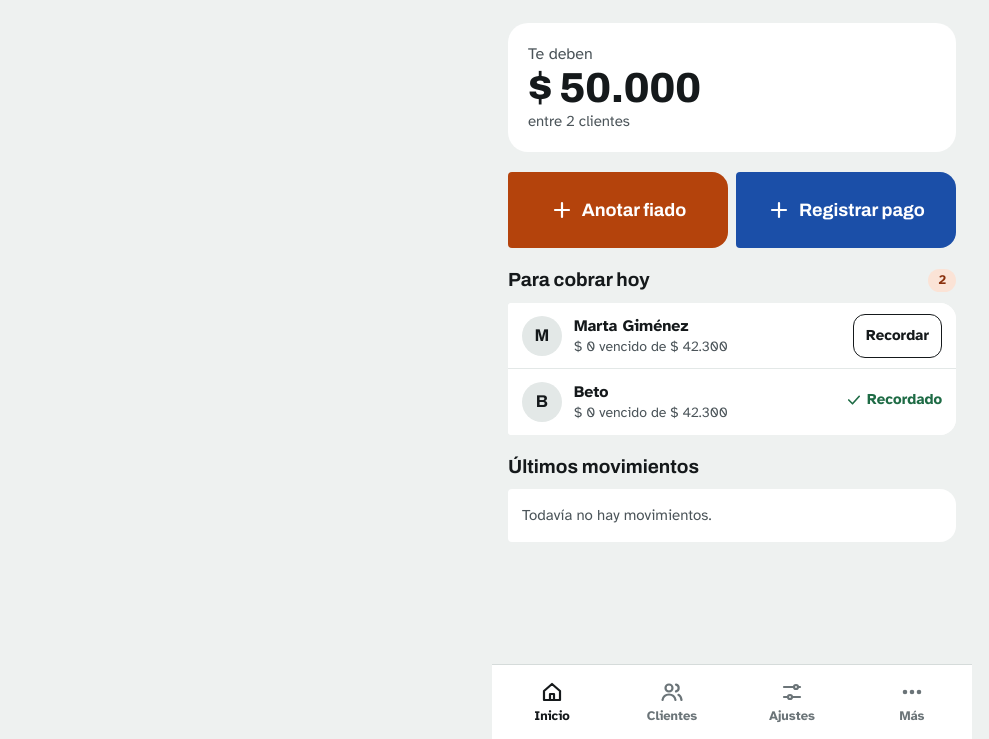
Para cobrar hoy › "Recordar" abre la pantalla y "Recordado" se muestra en verde
This screenshot has width=989, height=739.
Click the button "Recordar" at (897, 336), box [853, 314, 942, 358]
(page scrolled)
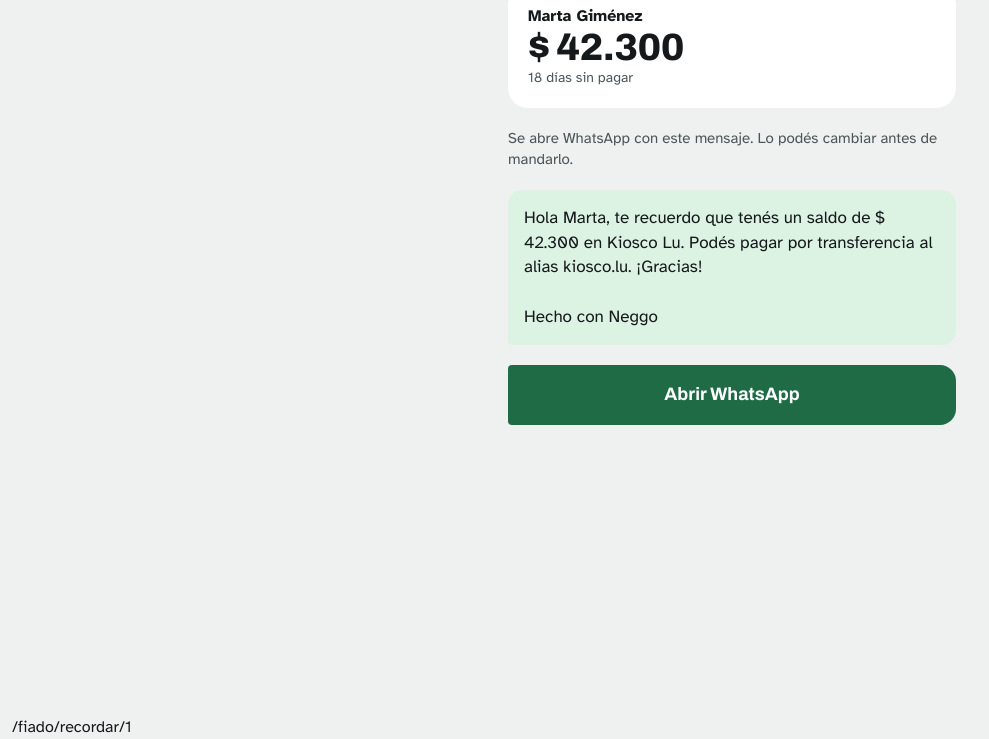
Check: the text with test id "donde" reads "/fiado/recordar/1", box [12, 717, 132, 737]
